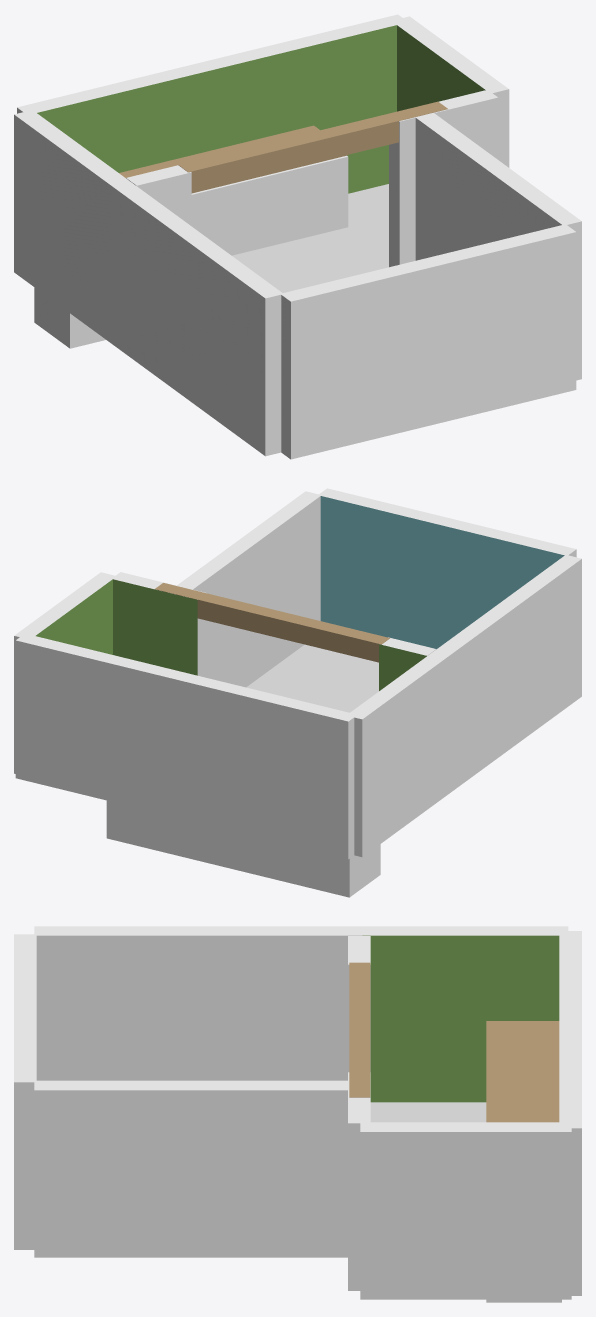
3 views of the same model, one above another, from view 1: azimuth 30°, elevation 25°; view 2: azimuth 150°, elevation 25°; view 3: azimuth 270°, elevation 25° (orthographic). The views are drawn at different scales.
Parts seen in each view (by area): view 1: Cube.006, Cube.004, Cube.010, Cube.007, Cube.005, Cube.015, Plane, Cube.013, Cube.001, Cube.002, Cube.009, Cube.003 (+2 smaller); view 2: Cube.002, Cube.016, Cube.004, Cube.007, Cube.005, Cube.015, Cube.012, Plane.001, Cube.013, Cube.009, Cube.006, Cube.003 (+2 smaller); view 3: Cube.005, Cube.004, Cube.003, Cube.008, Cube.014, Cube.006, Cube.002, Cube.013, Cube.001, Plane, Cube.007, Cube.
Part boxes in pixels (x1=…): Cube.006: x1=281, y1=224, x2=576, y2=459; Cube.004: x1=111, y1=181, x2=283, y2=456; Cube.010: x1=37, y1=25, x2=396, y2=193; Cube.007: x1=14, y1=110, x2=128, y2=342; Cube.005: x1=415, y1=113, x2=581, y2=380; Cube.015: x1=34, y1=155, x2=348, y2=348; Plane: x1=232, y1=184, x2=388, y2=292; Cube.013: x1=178, y1=101, x2=447, y2=192; Cube.001: x1=389, y1=90, x2=498, y2=267; Cube.002: x1=17, y1=14, x2=407, y2=114; Cube.009: x1=397, y1=25, x2=485, y2=111; Cube.003: x1=393, y1=16, x2=509, y2=167; Cube.002: x1=15, y1=633, x2=357, y2=859; Cube.016: x1=320, y1=496, x2=564, y2=649; Cube.004: x1=431, y1=555, x2=581, y2=794; Cube.007: x1=347, y1=653, x2=446, y2=857; Cube.005: x1=177, y1=491, x2=321, y2=687; Cube.015: x1=106, y1=800, x2=380, y2=897; Cube.012: x1=113, y1=579, x2=197, y2=675; Plane.001: x1=246, y1=644, x2=378, y2=712; Cube.013: x1=155, y1=583, x2=389, y2=662; Cube.009: x1=36, y1=579, x2=112, y2=654; Cube.006: x1=318, y1=488, x2=576, y2=557; Cube.003: x1=14, y1=572, x2=114, y2=773; Cube.005: x1=34, y1=1080, x2=348, y2=1257; Cube.004: x1=34, y1=926, x2=362, y2=1080; Cube.003: x1=360, y1=1122, x2=571, y2=1299; Cube.008: x1=362, y1=935, x2=559, y2=1102; Cube.014: x1=486, y1=1021, x2=559, y2=1122; Cube.006: x1=14, y1=934, x2=36, y2=1249; Cube.002: x1=559, y1=931, x2=581, y2=1295; Cube.013: x1=349, y1=962, x2=370, y2=1097; Cube.001: x1=348, y1=1072, x2=370, y2=1290; Plane: x1=370, y1=1102, x2=486, y2=1122; Cube.007: x1=362, y1=926, x2=568, y2=935; Cube: x1=348, y1=936, x2=370, y2=1072.
Size of what is drawn, in the model's own units: 9.82 by 4.97 by 11.45.
